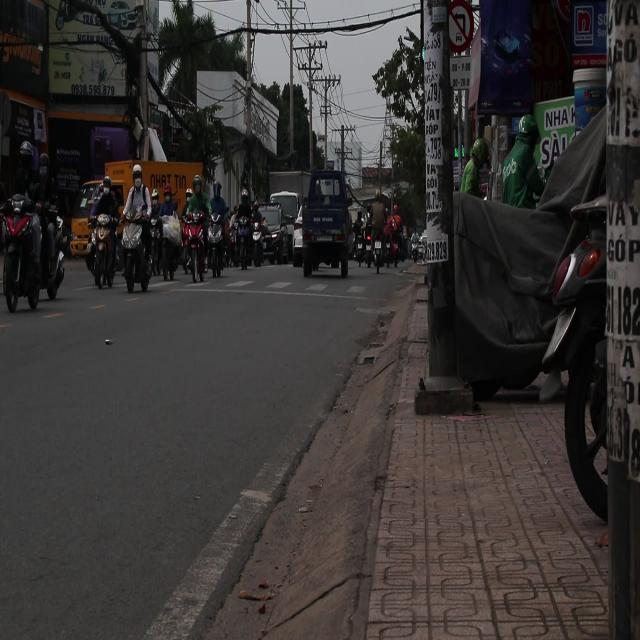motorbike: (0, 191, 49, 325), (114, 197, 156, 300), (35, 198, 68, 302), (86, 205, 121, 289), (362, 192, 392, 278), (202, 206, 228, 285), (155, 212, 183, 283), (180, 214, 208, 282), (235, 212, 258, 285)
truck: (68, 164, 214, 260), (297, 169, 355, 279), (266, 153, 312, 267)
